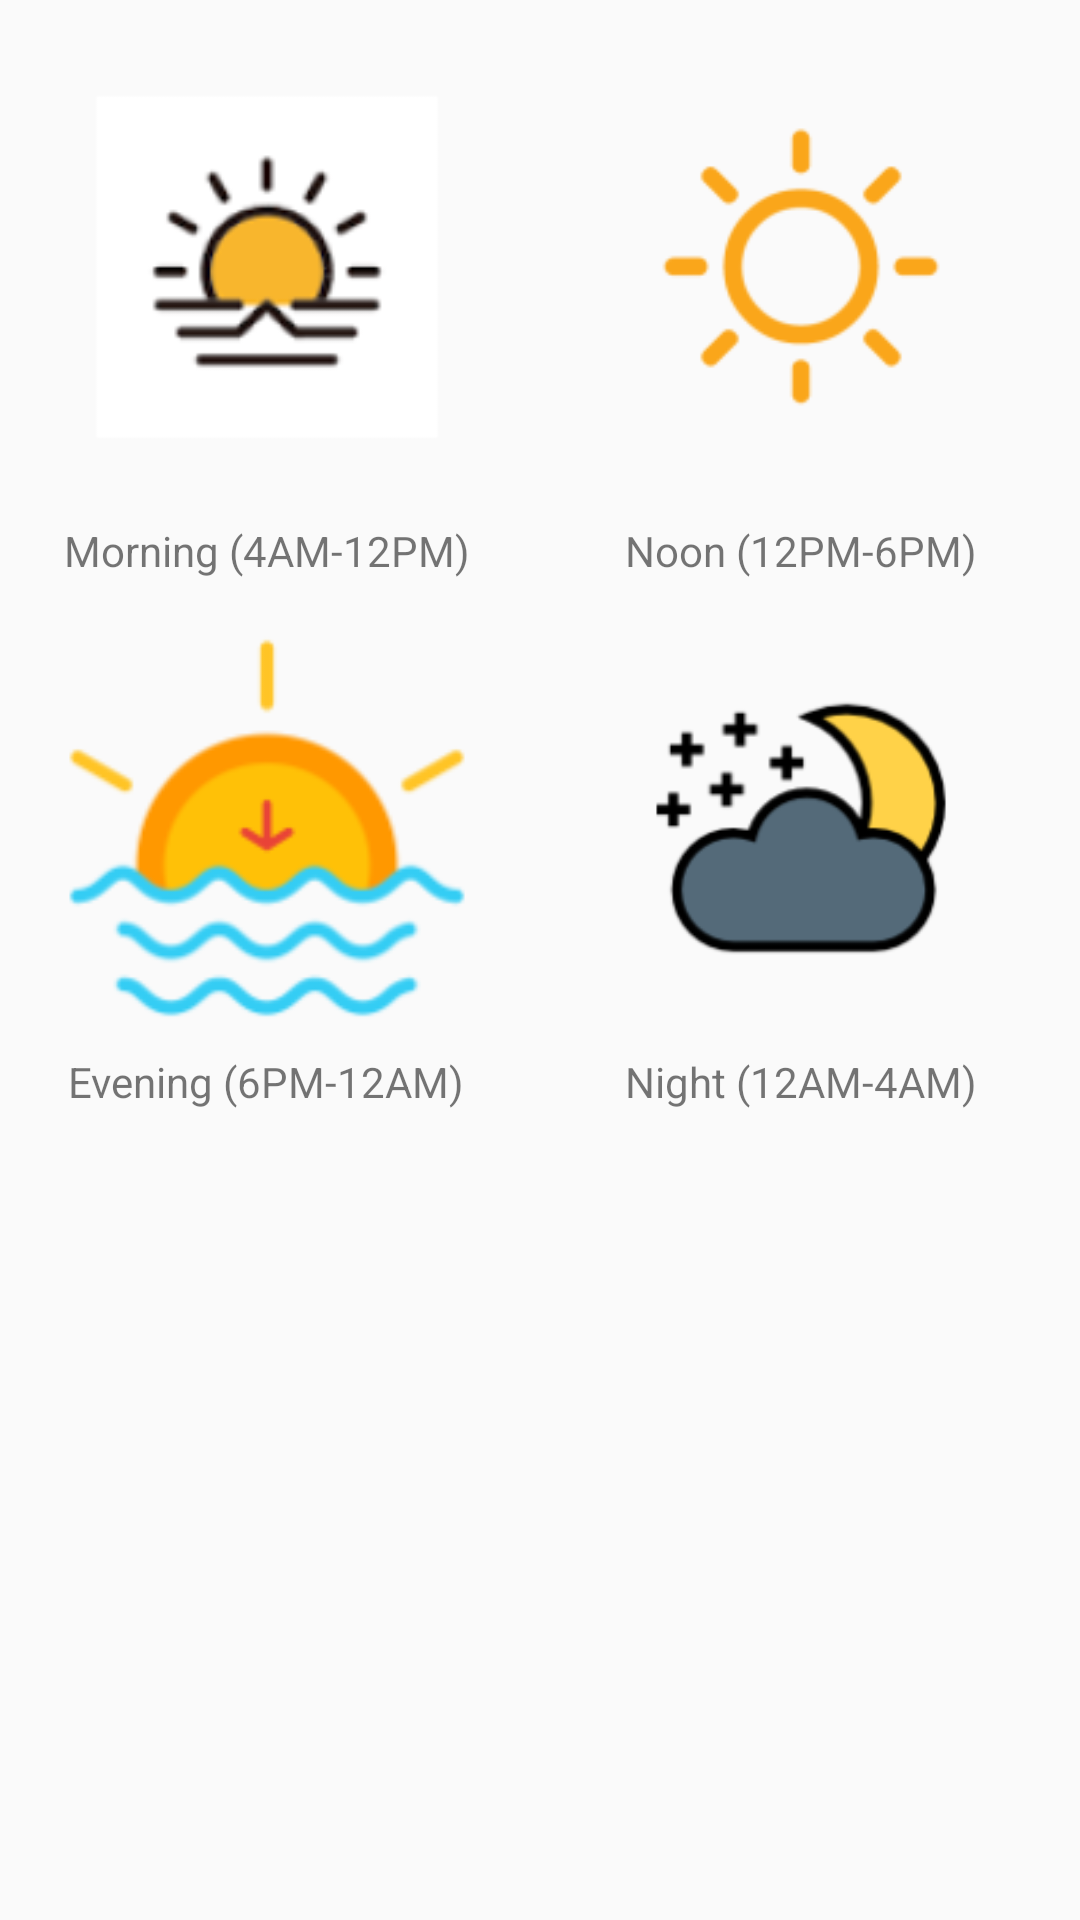

Named icons in this screenshot (1080 x 1920) and their centers, [x,y]:
afternoon: [801,266]
mor: [267,262]
